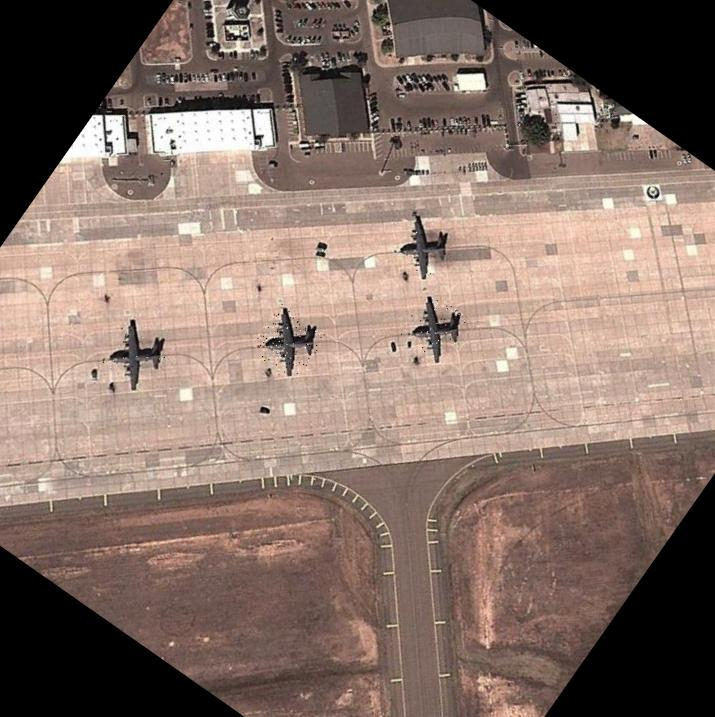A2: (94, 314, 176, 397), (248, 303, 327, 382), (397, 290, 473, 366), (385, 208, 458, 280)
